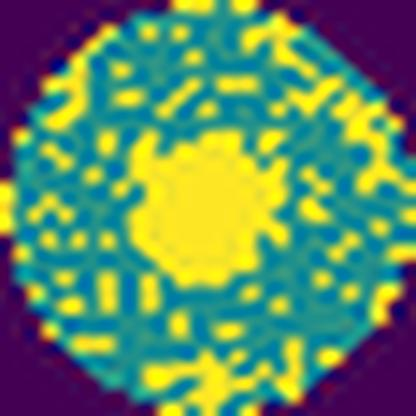Center: (126, 131, 291, 290)
